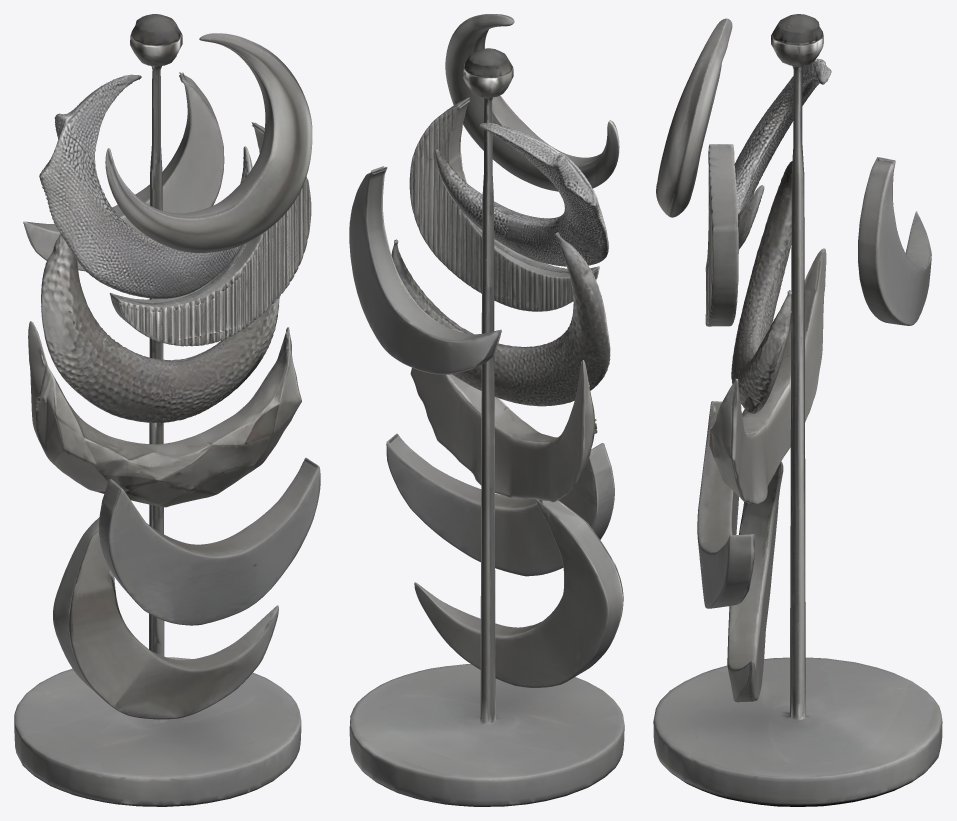
3 renders of one model, left to right at view 1: azimuth 30°, elevation 25°; view 2: azimuth 150°, elevation 25°; view 3: azimuth 270°, elevation 25°, orthographic. The views are drawn at different scales.
Parts seen in each view (by area): view 1: tripo_node_8d99ccdf-6475-4a9d-befa-66ca2dc0caaf; view 2: tripo_node_8d99ccdf-6475-4a9d-befa-66ca2dc0caaf; view 3: tripo_node_8d99ccdf-6475-4a9d-befa-66ca2dc0caaf.
Boxes of the visible parts, bbox=[...] form: tripo_node_8d99ccdf-6475-4a9d-befa-66ca2dc0caaf: bbox=[14, 14, 320, 806]; tripo_node_8d99ccdf-6475-4a9d-befa-66ca2dc0caaf: bbox=[349, 14, 624, 806]; tripo_node_8d99ccdf-6475-4a9d-befa-66ca2dc0caaf: bbox=[653, 14, 942, 806].
Size of the model in its own units: 0.3532 by 0.9802 by 0.3485.
1 material, 1 textured.
